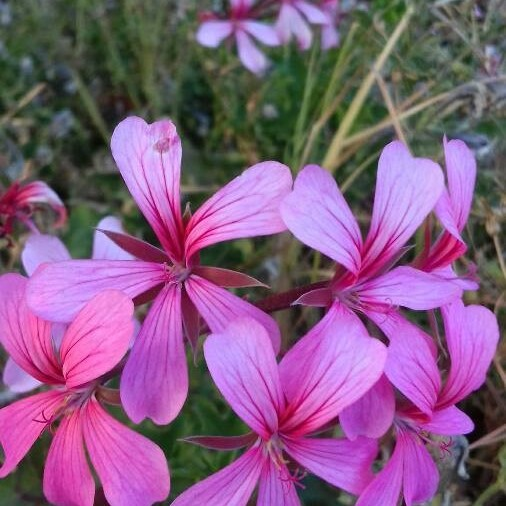obstacle: (25, 105, 480, 475)
